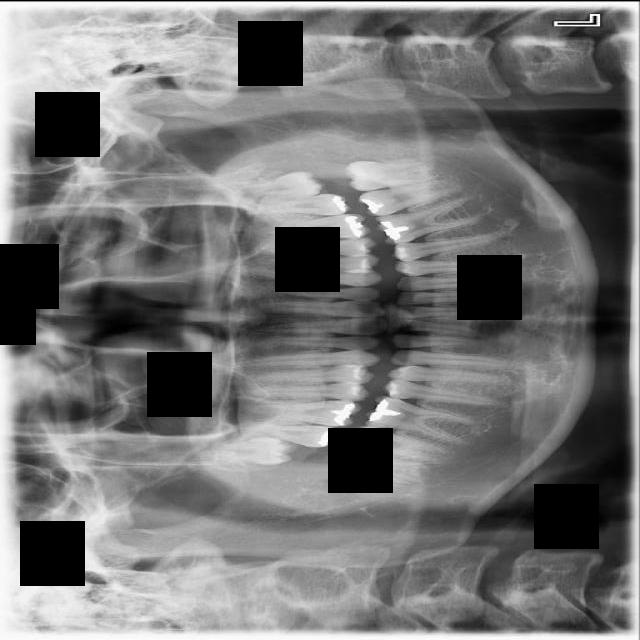3M ESPE Implant: (214, 437, 292, 464)
52: (365, 393, 411, 430), (349, 423, 393, 453), (315, 398, 361, 426), (297, 423, 342, 449), (376, 214, 414, 244), (328, 212, 369, 239), (318, 193, 348, 215)
73: (566, 79, 575, 82)
BioHorizons Implant: (247, 193, 350, 215)
BioLife Implant: (227, 170, 324, 201)
Biomet 3i Implant: (344, 159, 437, 191)
Blue Sky Bio Implant: (358, 173, 461, 219)
Caries: (243, 423, 340, 447)
Implant: (347, 421, 453, 464)
Keystone Dental Implant: (333, 449, 426, 490)
